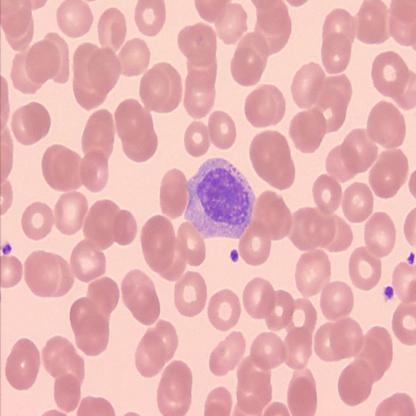Myelocyte: (188, 159, 258, 238)
